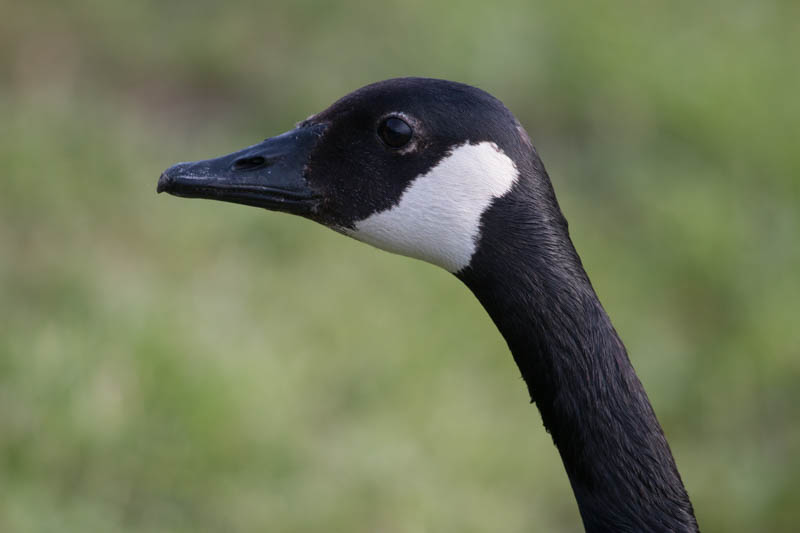goose-head: (156, 77, 558, 289)
